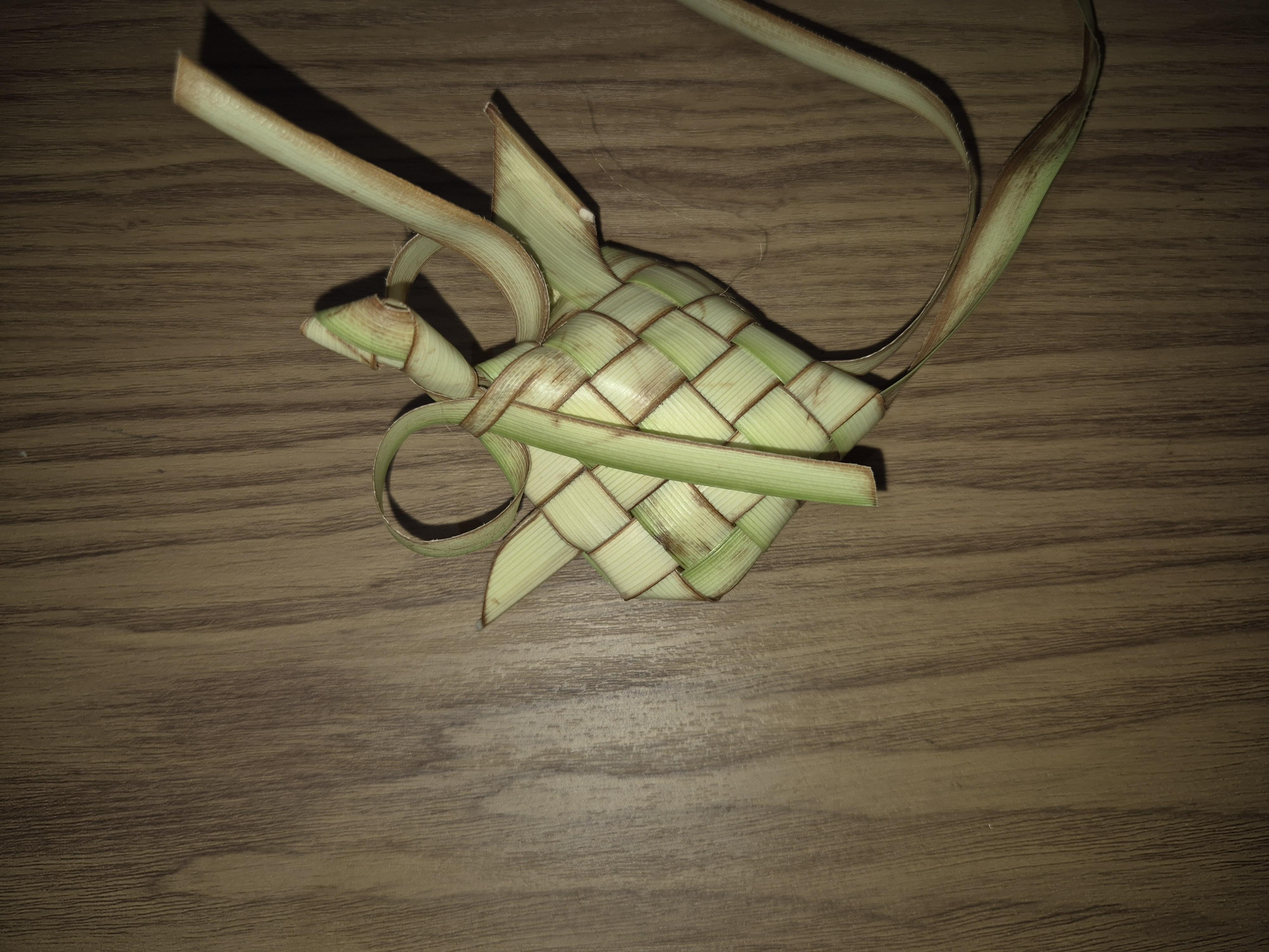Tipat Dampulan: (76, 288, 831, 821)
